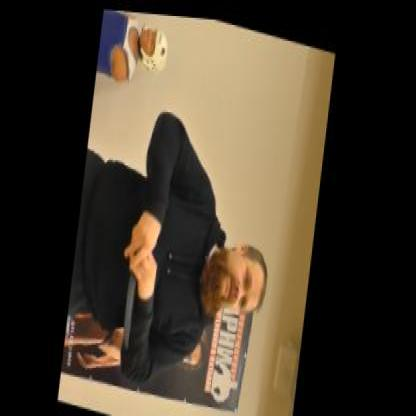knife: (116, 213, 158, 352)
